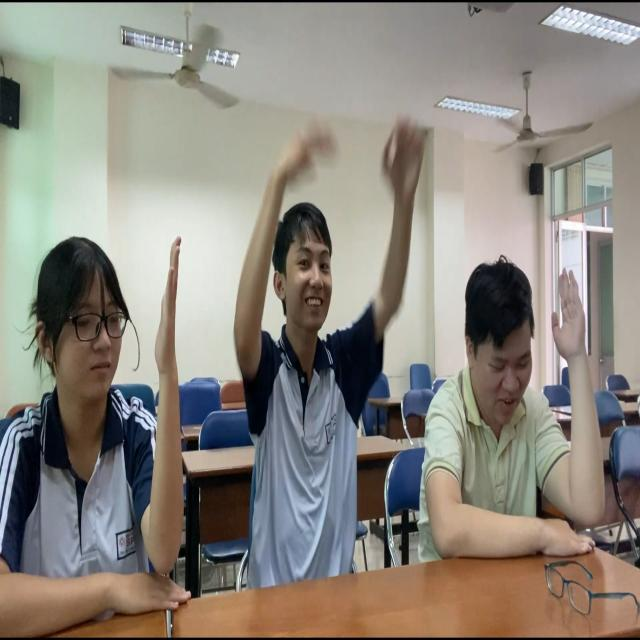raise_hand: (1, 216, 190, 621), (427, 249, 604, 578)
